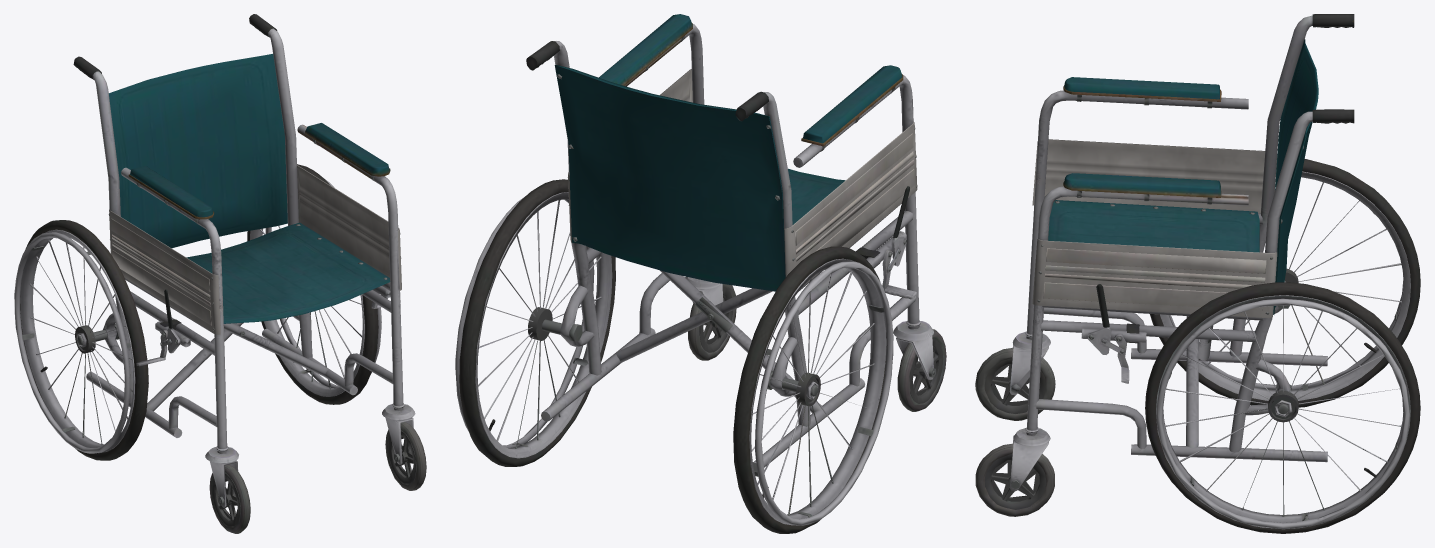
Rendered from wheelchair_01.glb.
3 renders of one model, left to right at view 1: azimuth 30°, elevation 25°; view 2: azimuth 150°, elevation 25°; view 3: azimuth 270°, elevation 25°, orthographic. The views are drawn at different scales.
Visible parts, largest first — view 1: wheelchair_01; view 2: wheelchair_01; view 3: wheelchair_01.
Part boxes in pixels (<box>): wheelchair_01: <box>14,14,426,533</box>; wheelchair_01: <box>455,14,946,533</box>; wheelchair_01: <box>975,14,1420,533</box>.
Size of the model in its own units: 0.824 by 1.1 by 1.09.
Materials: 1 (1 with a texture image).
